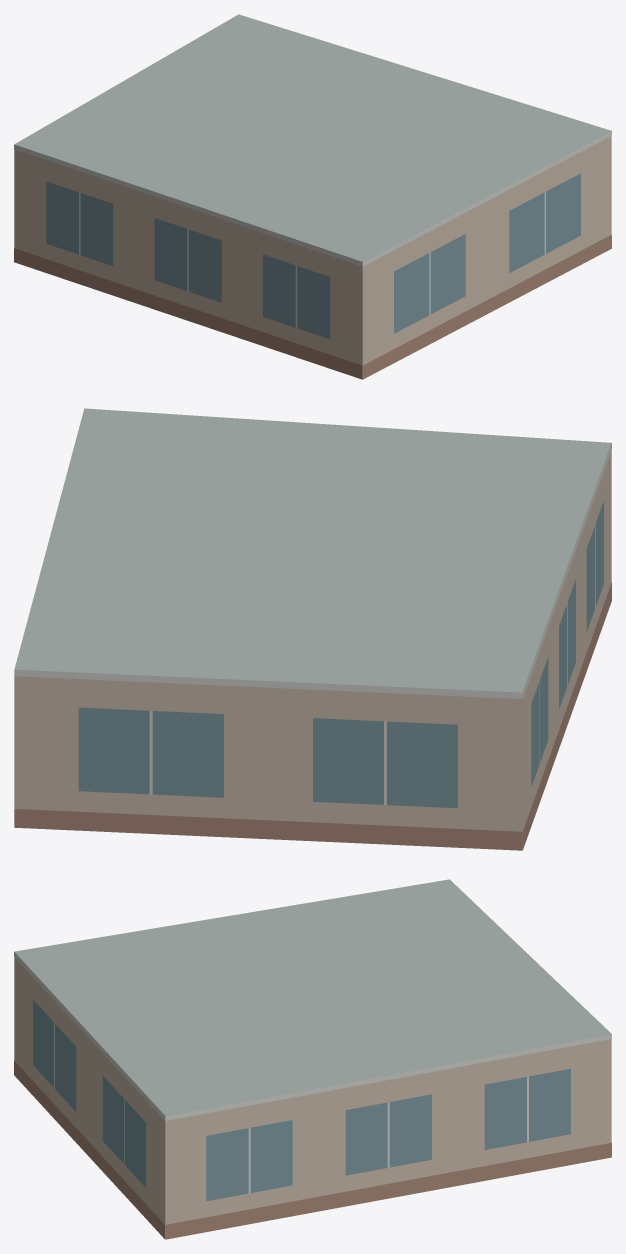
File: survey-upis-33023268.glb
3 views of the same model, one above another, from view 1: azimuth 30°, elevation 25°; view 2: azimuth 150°, elevation 25°; view 3: azimuth 270°, elevation 25° (orthographic). The views are drawn at different scales.
Visible parts, largest first — view 1: survey-upis-33023268.tmp; view 2: survey-upis-33023268.tmp; view 3: survey-upis-33023268.tmp.
Boxes of the visible parts, x1,y1,x2,y2 form: survey-upis-33023268.tmp: [14, 14, 611, 379]; survey-upis-33023268.tmp: [14, 408, 611, 850]; survey-upis-33023268.tmp: [14, 879, 611, 1239].
Size of the model in its own units: 12.54 by 3.05 by 13.38.
